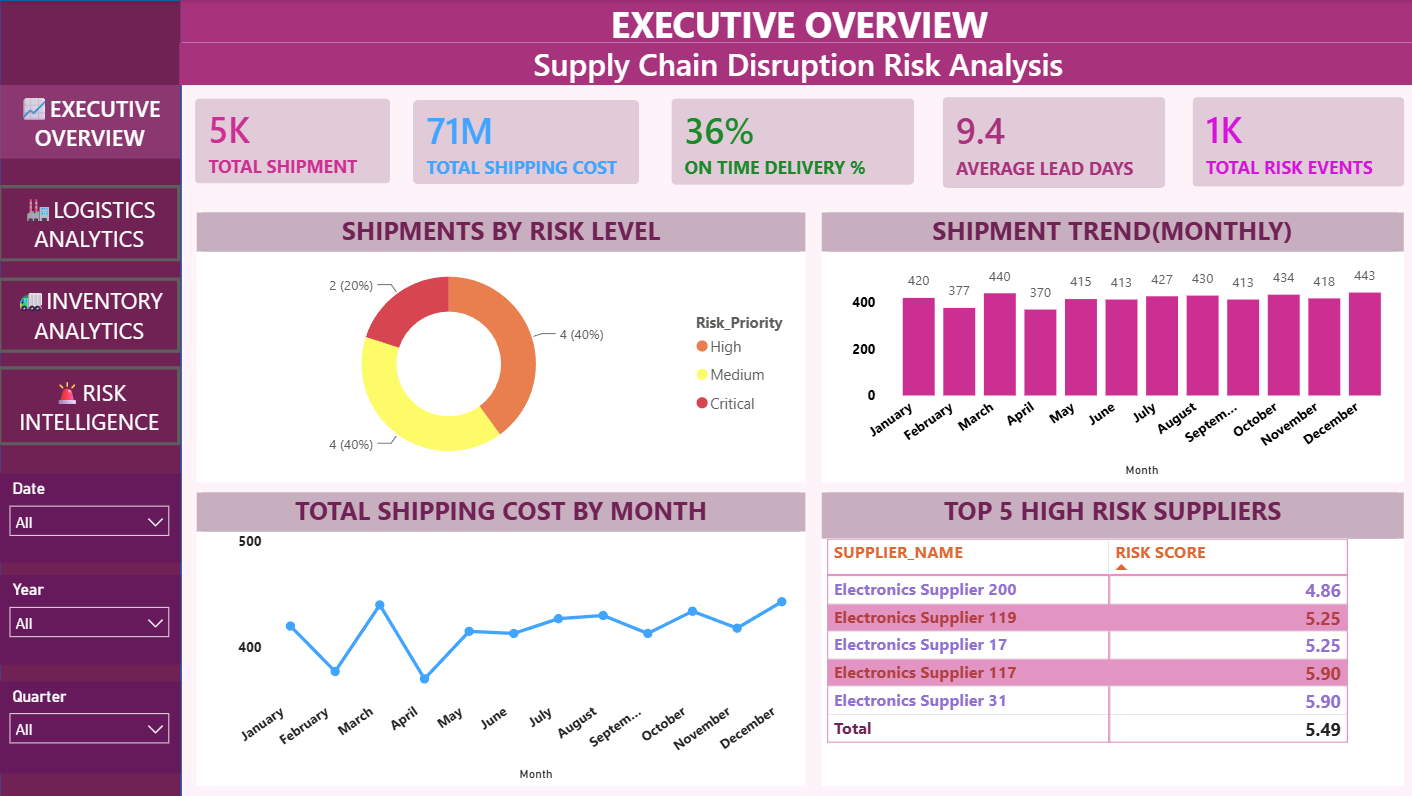

What the dashboard file says about the page in this screenshot:
{"tool":"powerbi","page":{"name":"Executive Overview","canvas":[1280,720],"ordinal":0},"visuals":[{"type":"cardVisual","fields":{"Data":["FACT_SHIPMENT.AVERAGE LEAD DAYS"]},"box":[839.5,75.6,225.6,107],"z":0},{"type":"cardVisual","fields":{"Data":["FACT_SHIPMENT.Total Shipping Cost"]},"box":[357,73.3,238.4,110.5],"z":1000},{"type":"cardVisual","fields":{"Data":["FACT_RISK_EVENTS.Total Risk Events"]},"box":[1065.1,75.6,215.1,105.8],"z":2000},{"type":"lineClusteredColumnComboChart","title":"SHIPMENT TREND(MONTHLY)","fields":{"Y":["FACT_SHIPMENT.TOTAL SHIPMENT"],"Category":["DIM_DATE.Month"]},"box":[743.5,190.8,523.4,243.3],"z":3000},{"type":"donutChart","title":"SHIPMENTS BY RISK LEVEL","fields":{"Y":["CountNonNull(DIM_RISK_CATEGORY.Risk_Priority)"],"Category":["DIM_RISK_CATEGORY.Risk_Priority"]},"box":[179.1,191.9,548.8,243],"z":4000},{"type":"pivotTable","title":"TOP 5 HIGH RISK SUPPLIERS","fields":{"Rows":["DIM_SUPPLIERS.Supplier_Name"],"Values":["FACT_RISK_EVENTS.RISK SCORE"]},"box":[743,444.2,524.4,265.1],"z":5000},{"type":"lineChart","title":"TOTAL SHIPPING COST BY MONTH","fields":{"Y":["FACT_SHIPMENT.TOTAL SHIPMENT"],"Category":["DIM_DATE.Month"]},"box":[179.1,444.2,548.8,265.1],"z":6000},{"type":"shape","box":[1.2,0,164.5,720],"z":7000},{"type":"actionButton","box":[1.2,76.3,163.3,66.8],"z":8000},{"type":"actionButton","box":[0,166.9,164.5,69.1],"z":9000},{"type":"actionButton","box":[0,250.3,164.5,67.9],"z":10000},{"type":"actionButton","box":[0,330.2,164.5,71.5],"z":11000},{"type":"slicer","fields":{"Values":["DIM_DATE.Year"]},"box":[0,518.5,164.5,81.1],"z":12000},{"type":"slicer","fields":{"Values":["DIM_DATE.Date"]},"box":[0,426.7,164.5,79.9],"z":13000},{"type":"slicer","fields":{"Values":["DIM_DATE.Quarter"]},"box":[0,613.9,164.5,83.4],"z":14000},{"type":"shape","box":[164.5,0,1115.7,38.1],"z":15000},{"type":"shape","box":[164,38.4,1116.3,38.4],"z":22000},{"type":"cardVisual","fields":{"Data":["FACT_SHIPMENT.ON TIME DELIVERY %"]},"box":[595.4,76.7,243,102.3],"z":23000},{"type":"cardVisual","fields":{"Data":["FACT_SHIPMENT.TOTAL SHIPMENT"]},"box":[165.8,77,200.1,101.9],"z":24000}]}

Visuals, with their boxes on the page's 1280x720 design canvas (x1, y1, x2, y2). These are canvas units, not pixel positions in the 1412x796 screenshot, which may show the page scaled, cropped or inside an application window:
cardVisual - FACT_SHIPMENT.AVERAGE LEAD DAYS: x1=840, y1=76, x2=1065, y2=183
cardVisual - FACT_SHIPMENT.Total Shipping Cost: x1=357, y1=73, x2=595, y2=184
cardVisual - FACT_RISK_EVENTS.Total Risk Events: x1=1065, y1=76, x2=1280, y2=181
"SHIPMENT TREND(MONTHLY)" lineClusteredColumnComboChart: x1=744, y1=191, x2=1267, y2=434
"SHIPMENTS BY RISK LEVEL" donutChart: x1=179, y1=192, x2=728, y2=435
"TOP 5 HIGH RISK SUPPLIERS" pivotTable: x1=743, y1=444, x2=1267, y2=709
"TOTAL SHIPPING COST BY MONTH" lineChart: x1=179, y1=444, x2=728, y2=709
shape: x1=1, y1=0, x2=166, y2=720
actionButton: x1=1, y1=76, x2=164, y2=143
actionButton: x1=0, y1=167, x2=164, y2=236
actionButton: x1=0, y1=250, x2=164, y2=318
actionButton: x1=0, y1=330, x2=164, y2=402
slicer - DIM_DATE.Year: x1=0, y1=518, x2=164, y2=600
slicer - DIM_DATE.Date: x1=0, y1=427, x2=164, y2=507
slicer - DIM_DATE.Quarter: x1=0, y1=614, x2=164, y2=697
shape: x1=164, y1=0, x2=1280, y2=38
shape: x1=164, y1=38, x2=1280, y2=77
cardVisual - FACT_SHIPMENT.ON TIME DELIVERY %: x1=595, y1=77, x2=838, y2=179
cardVisual - FACT_SHIPMENT.TOTAL SHIPMENT: x1=166, y1=77, x2=366, y2=179
